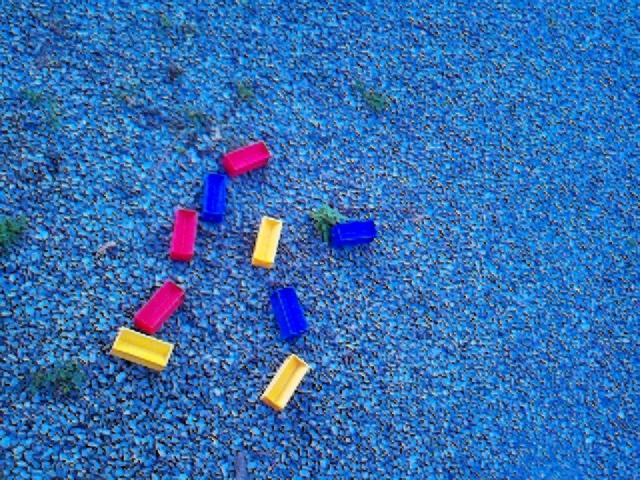blue: (270, 288, 309, 341), (200, 173, 229, 226), (330, 220, 377, 249)
red: (135, 280, 186, 337), (224, 143, 271, 178), (171, 209, 198, 263)
yellow: (110, 325, 176, 374), (261, 355, 312, 412), (251, 216, 284, 270)
